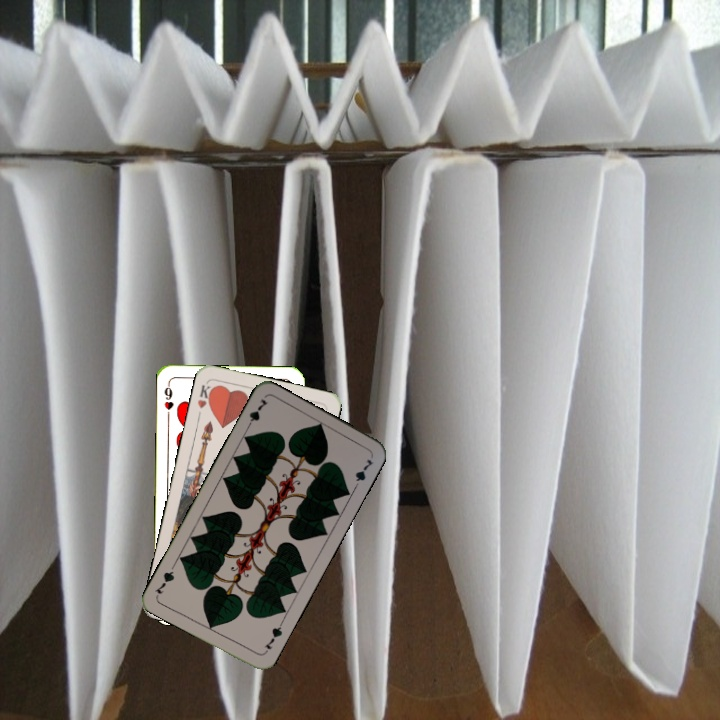G7: (242, 395, 271, 432), (260, 619, 285, 656)
H9: (160, 380, 176, 420)
HK: (193, 381, 217, 411)
